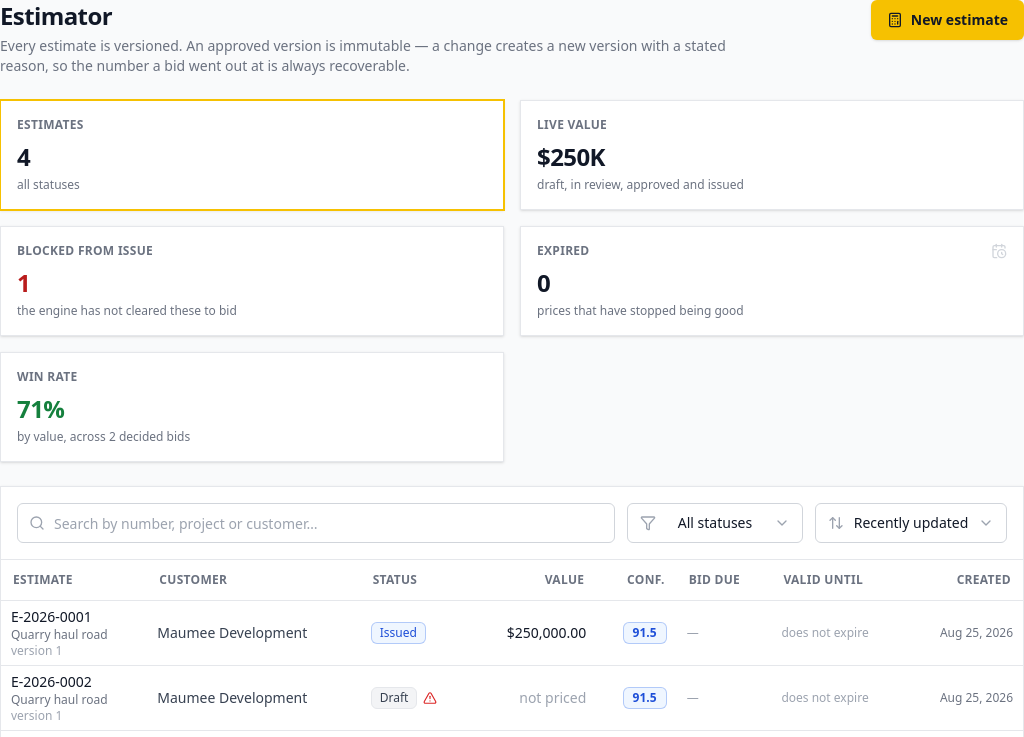
Scenario: the estimating screen › the boxes across the top › gets back to everything from the first tile
expect the link "E-2026-0001" is shown: met, box [11,606,92,626]
Step 1. Click the button with aria-label "show the estimates the engine has blocked" → [85, 250], box [0,226,504,336]
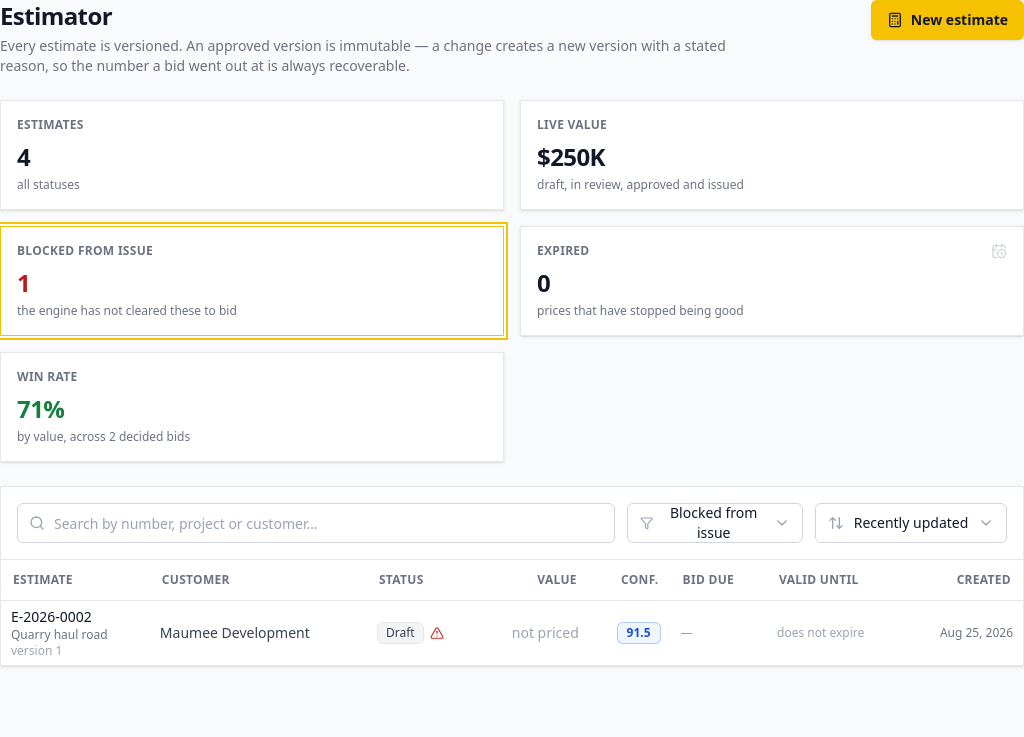
expect the link "E-2026-0001" is gone: met
Step 2. Click the button with aria-label "show every estimate" → [50, 124], box [0,100,504,210]
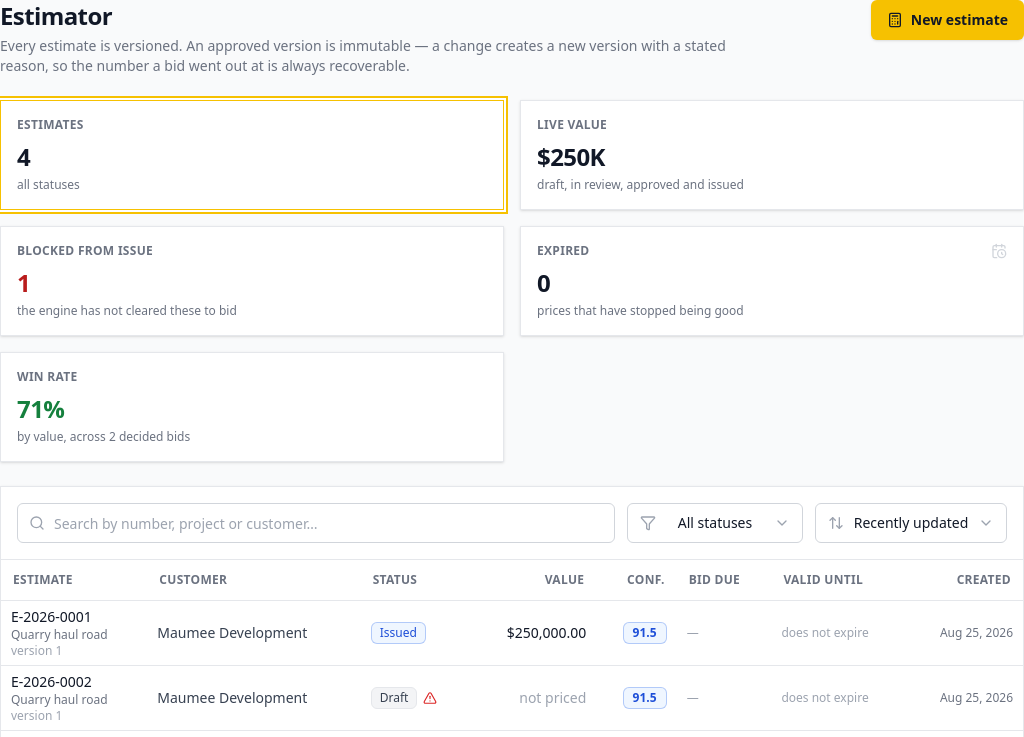
expect the link "E-2026-0001" is shown: met, box [11,606,92,626]
